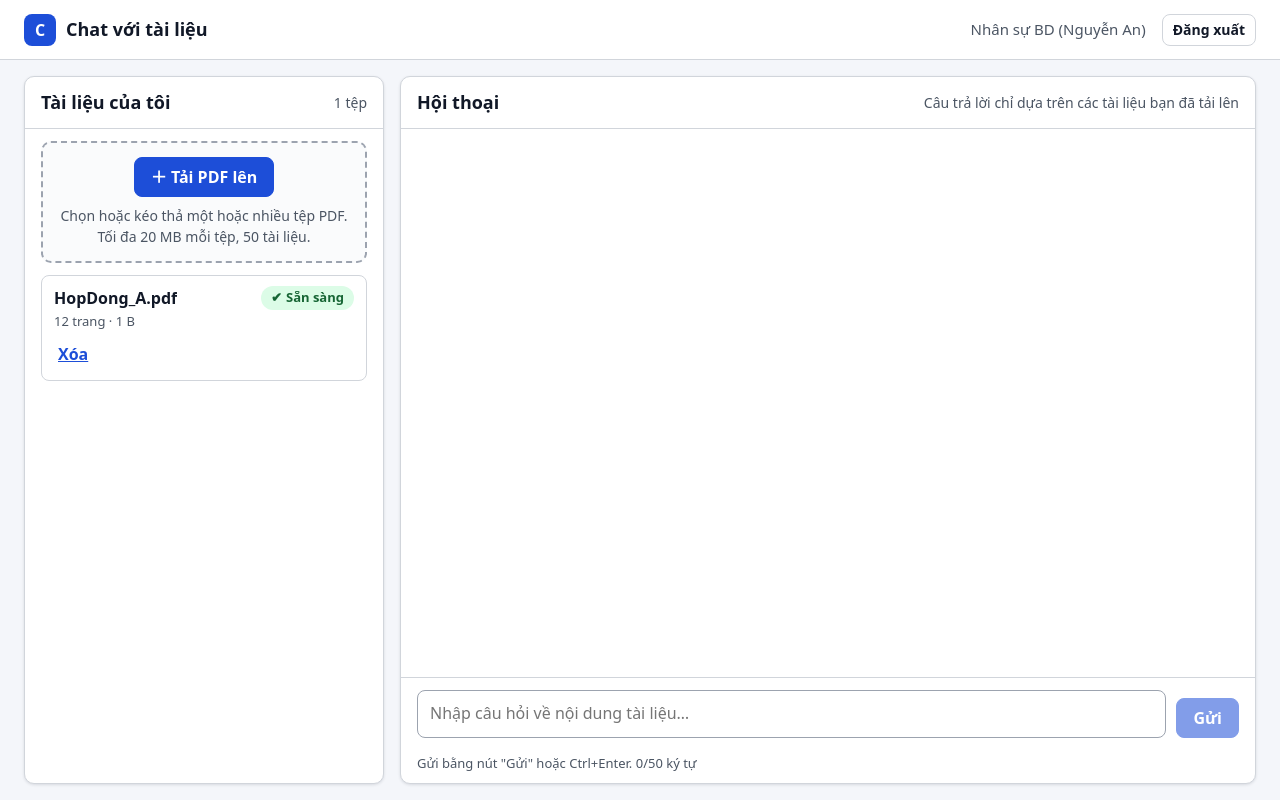
Test: Hỏi đáp › không tìm thấy: khối cảnh báo kèm gợi ý, không có chip nguồn
The width and height of the screenshot is (1280, 800).
Type "Còn điều khoản phạt khi giao trễ?" into the text box labelled "Câu hỏi của bạn" at (792, 714), box [417,690,1166,738]
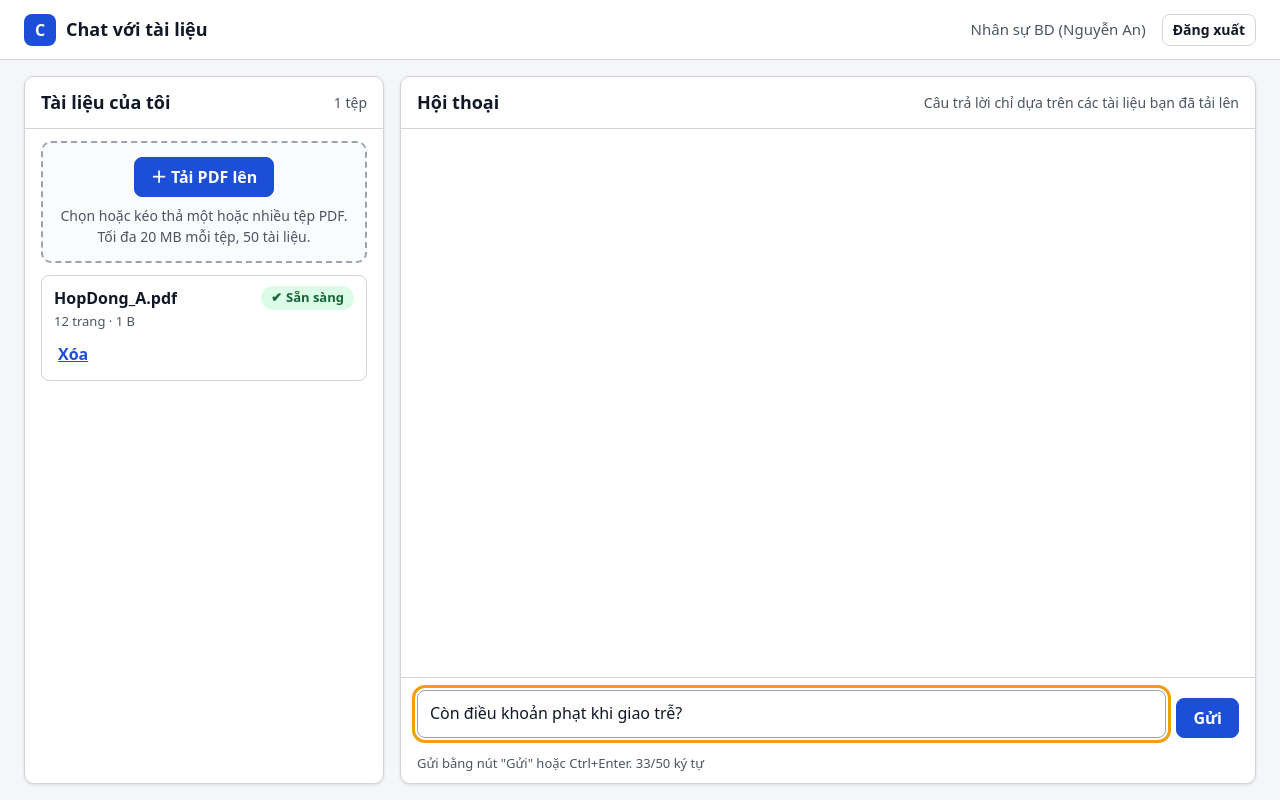
Click the button "Gửi" at (1208, 718), box [1176,698,1239,738]
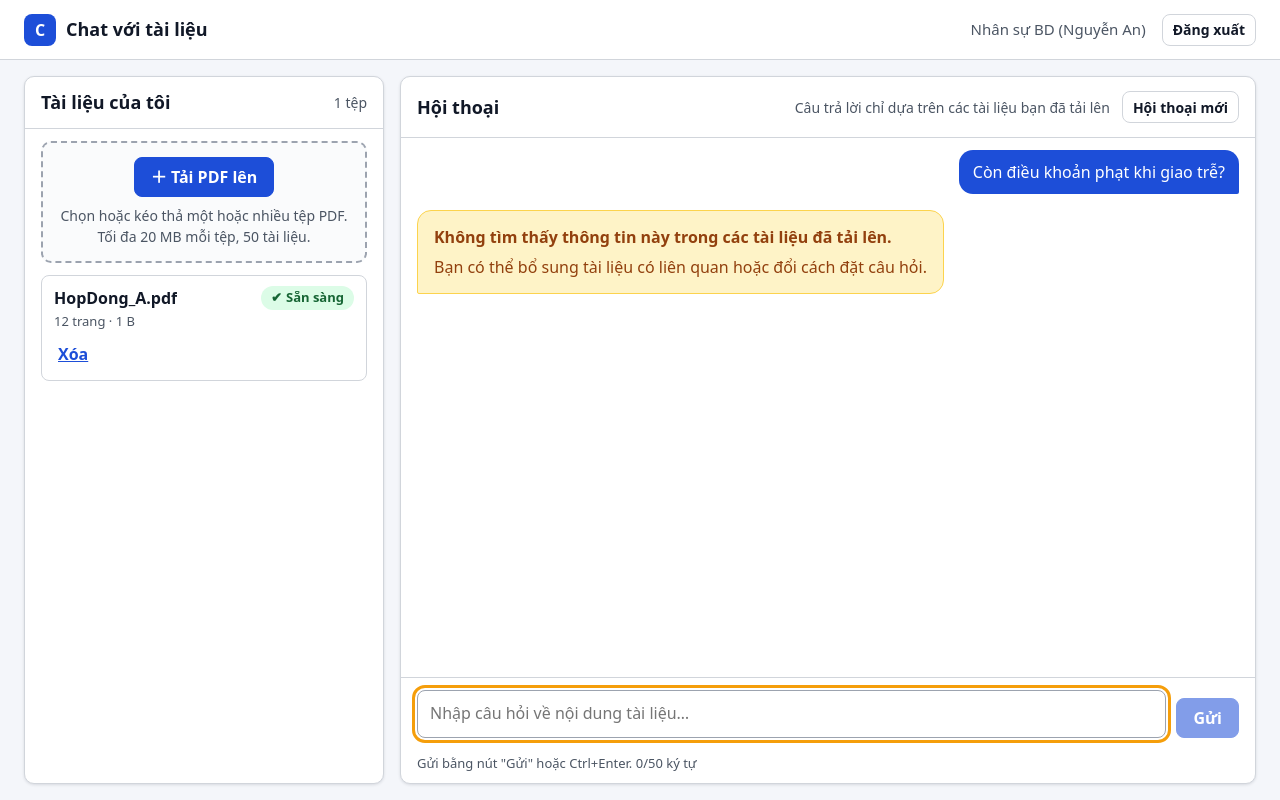
Check: the message shows "Không tìm thấy thông tin này trong các tài liệu đã tải lên.", box [434,226,892,248]
Check: the message shows "bổ sung tài liệu có liên quan hoặc đổi cách đặt câu hỏi", box [434,256,927,278]
